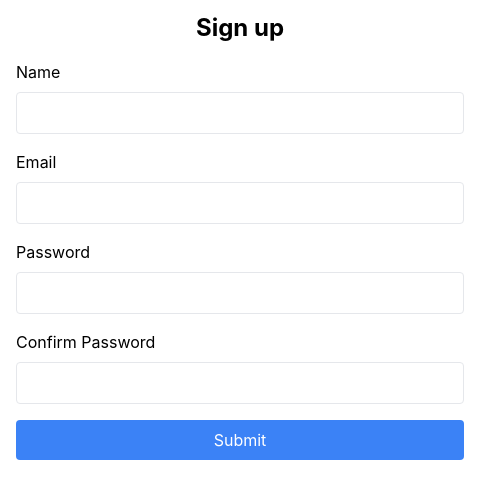
Test: RegisterPage › displays a password mismatch error when passwords do not match
The width and height of the screenshot is (481, 501).
In the field labelled "Name": (240, 113) [16,92,464,134], type "John Doe"
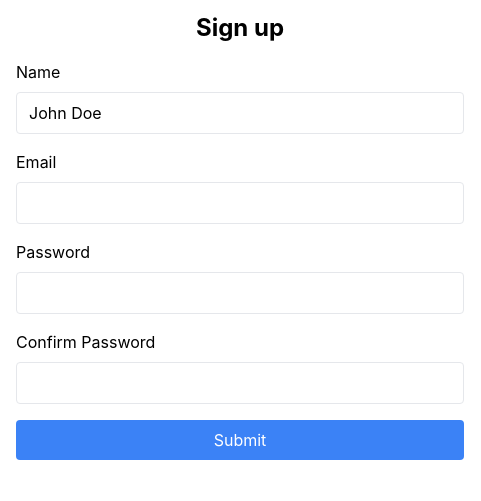
In the field labelled "Email": (240, 203) [16,182,464,224], type "john@example.com"
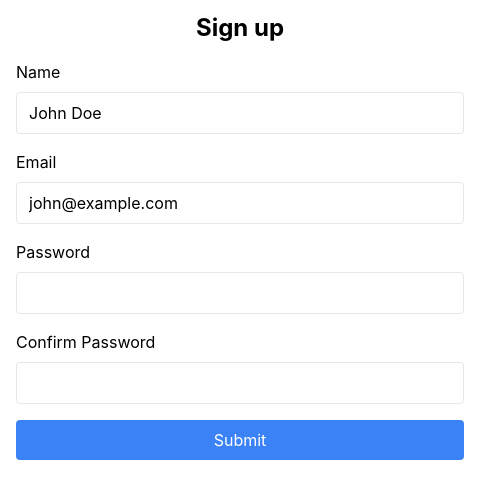
In the password field labelled "Password": (240, 293) [16,272,464,314], type "password123"
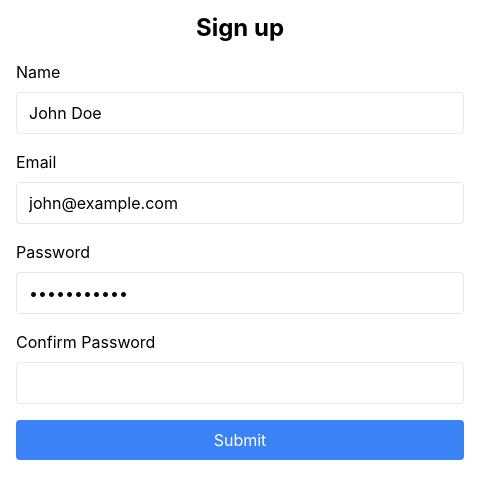
In the password field labelled "Confirm Password": (240, 383) [16,362,464,404], type "differentPassword"
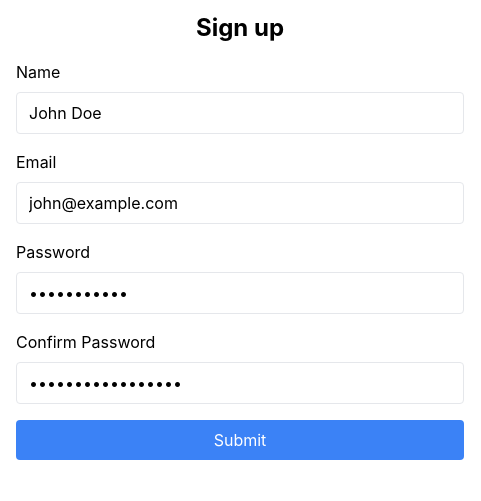
Click the button "Submit": (240, 440) [16,420,464,460]
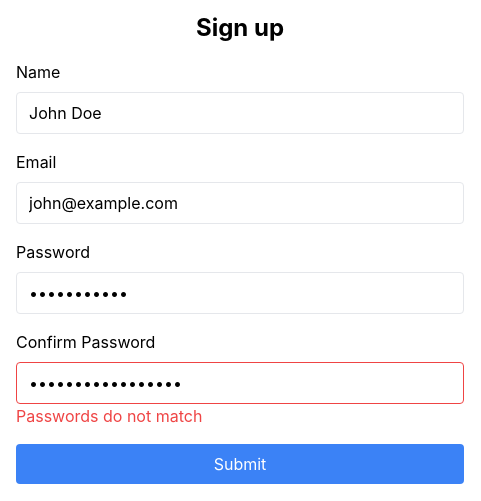
Result: the text "Passwords do not match" is shown at [16,406,202,426]
